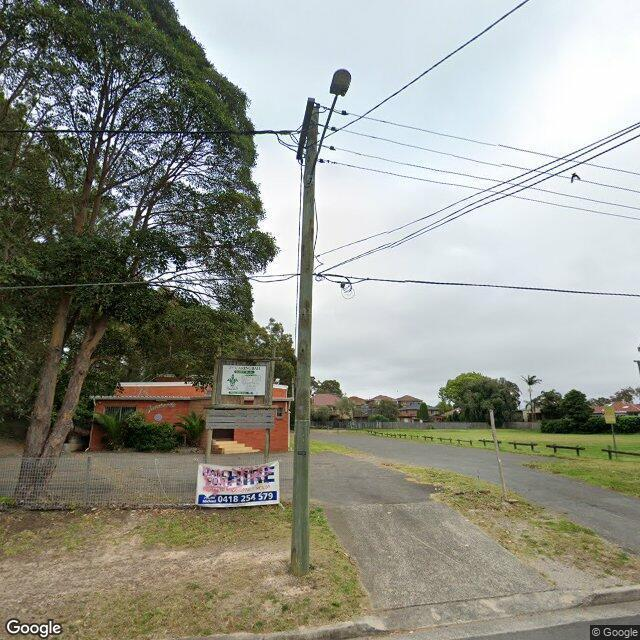crossarm: (296, 97, 316, 161)
streetlight: (305, 68, 351, 188)
timber-pole: (290, 102, 320, 576)
